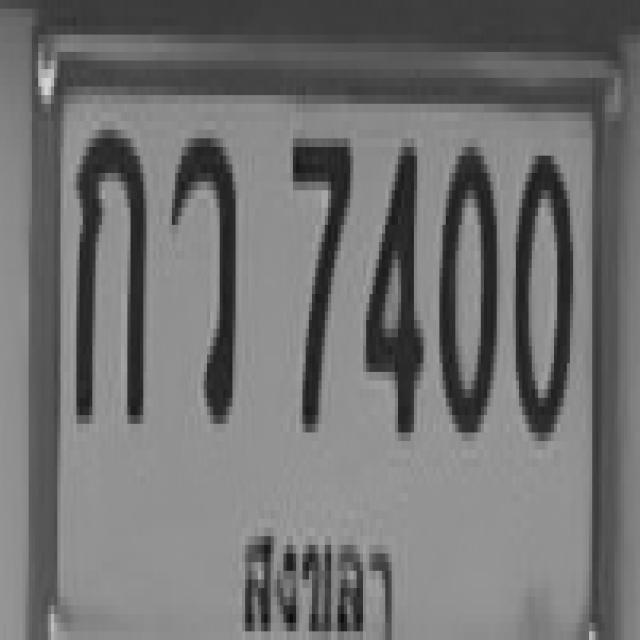0: (436, 138, 494, 432), (513, 147, 570, 432)
10GorGai: (74, 121, 144, 415)
4: (363, 134, 420, 437)
46WorWaen: (169, 130, 232, 415)
7: (290, 130, 350, 424)
Songkhla: (228, 505, 408, 640)
